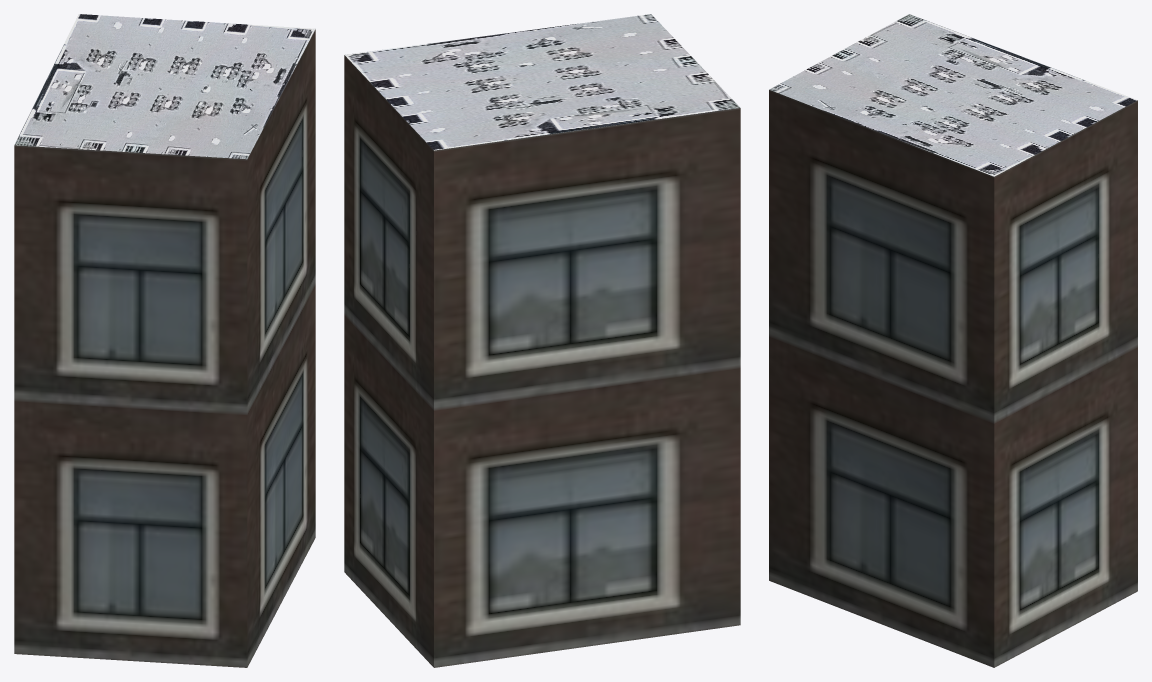
Rendered from ResTex__1460.fbx.
3 views of the same model, side by side, from view 1: azimuth 30°, elevation 25°; view 2: azimuth 150°, elevation 25°; view 3: azimuth 270°, elevation 25° (orthographic). The views are drawn at different scales.
Visible parts, largest first — view 1: CityEngineMaterial_16_m, CityEngineMaterial_15_m; view 2: CityEngineMaterial_16_m, CityEngineMaterial_15_m; view 3: CityEngineMaterial_16_m, CityEngineMaterial_15_m.
Part boxes in pixels (box(x1,y1,x2,y2)): CityEngineMaterial_16_m: box(14, 29, 315, 667); CityEngineMaterial_15_m: box(14, 14, 315, 159); CityEngineMaterial_16_m: box(344, 55, 740, 667); CityEngineMaterial_15_m: box(345, 14, 740, 150); CityEngineMaterial_16_m: box(769, 89, 1137, 667); CityEngineMaterial_15_m: box(769, 14, 1137, 176).
Bounding box in the file's own units: 4.27 × 6 × 4.08.
Materials: 2 (2 with a texture image).
